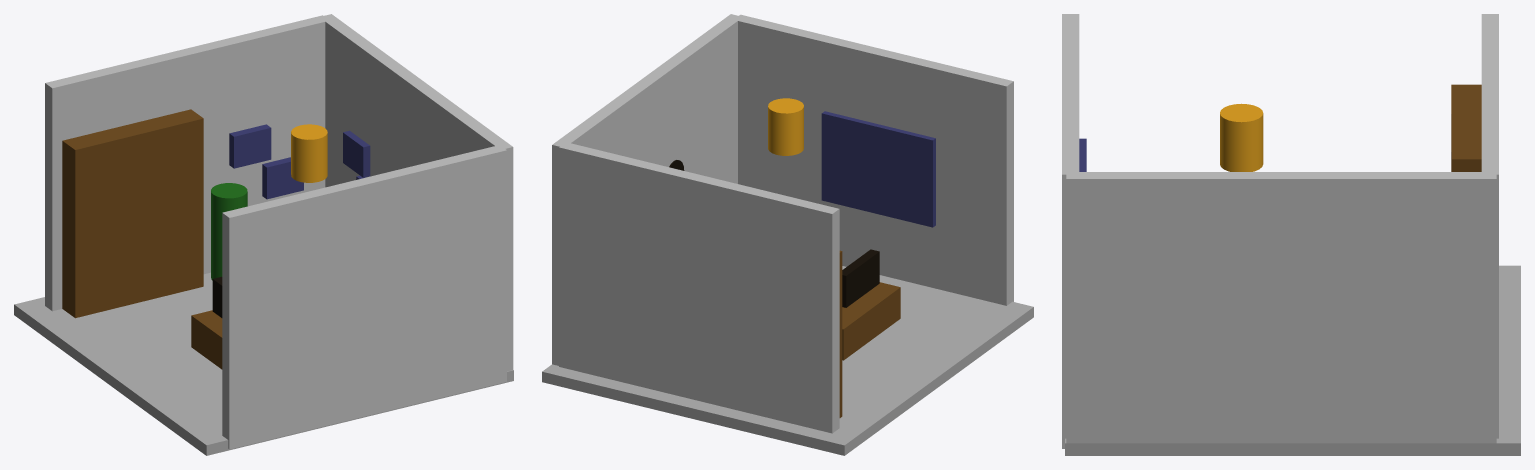
File: wholelevel.fbx
3 renders of one model, left to right at view 1: azimuth 30°, elevation 25°; view 2: azimuth 150°, elevation 25°; view 3: azimuth 270°, elevation 25°, orthographic. The views are drawn at different scales.
Parts seen in each view (by area): view 1: Wall, Wall_2, bookshelf, Floor, Wall_1, Lamp__1_, PLant, Painting__1_, TV_Cabinet, Painting__2_, Painting; view 2: Wall_2, Wall, Floor, Wall_1, Window, TV_Cabinet, Lamp__1_, TV, bookshelf; view 3: Wall_1, Floor, Wall, Wall_2, Lamp__1_, bookshelf.
Boxes of the visible parts, x1,y1,x2,y2 form: Wall: (222,145,506,449); Wall_2: (45,15,329,311); bookshelf: (62,109,203,318); Floor: (14,272,513,455); Wall_1: (324,14,513,371); Lamp__1_: (291,124,327,182); PLant: (211,183,247,280); Painting__1_: (229,124,271,168); TV_Cabinet: (191,310,222,369); Painting__2_: (262,157,303,199); Painting: (343,130,370,177); Wall_2: (559,142,839,433); Wall: (733,14,1013,305); Floor: (542,266,1033,455); Wall_1: (552,14,737,365); Window: (821,111,935,227); TV_Cabinet: (842,282,900,360); Lamp__1_: (768,98,803,155); TV: (842,249,879,307); bookshelf: (839,250,842,417); Wall_1: (1066,172,1496,443); Floor: (1065,265,1520,455); Wall: (1062,14,1079,448); Wall_2: (1481,14,1498,438); Lamp__1_: (1220,103,1263,171); bookshelf: (1451,84,1481,171).
Bounding box in the file's own units: 1660 × 1206 × 1812.
